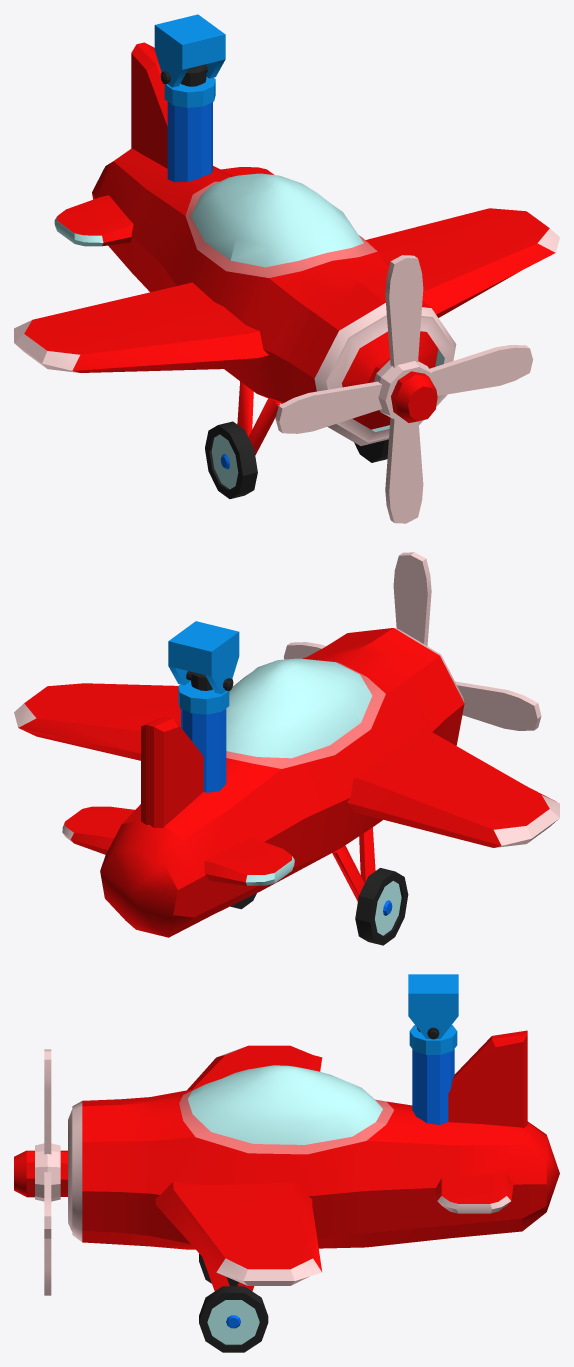
The model's file is skin2.fbx.
The picture shows the model from 3 angles, top to bottom: view 1: azimuth 30°, elevation 25°; view 2: azimuth 150°, elevation 25°; view 3: azimuth 270°, elevation 25°; orthographic projection. The views are drawn at different scales.
Visible parts, largest first — view 1: Cylinder, Torus.001, Cube, Cylinder.001, Cylinder.002; view 2: Cylinder, Torus.001, Cube, Cylinder.001, Cylinder.002; view 3: Cylinder, Cube, Cylinder.001, Torus.001, Cylinder.002.
Boxes of the visible parts, x1,y1,x2,y2 form: Cylinder: [14, 42, 559, 445]; Torus.001: [275, 255, 532, 523]; Cube: [205, 381, 388, 498]; Cylinder.001: [164, 77, 215, 182]; Cylinder.002: [154, 14, 225, 87]; Cylinder: [14, 628, 559, 937]; Torus.001: [284, 552, 541, 730]; Cube: [230, 827, 408, 945]; Cylinder.001: [178, 681, 229, 792]; Cylinder.002: [168, 621, 239, 694]; Cylinder: [14, 1030, 559, 1285]; Cube: [199, 1253, 268, 1352]; Cylinder.001: [409, 1025, 457, 1124]; Torus.001: [35, 1049, 60, 1295]; Cylinder.002: [408, 974, 458, 1038].
Bounding box in the file's own units: 497 × 336 × 497.
